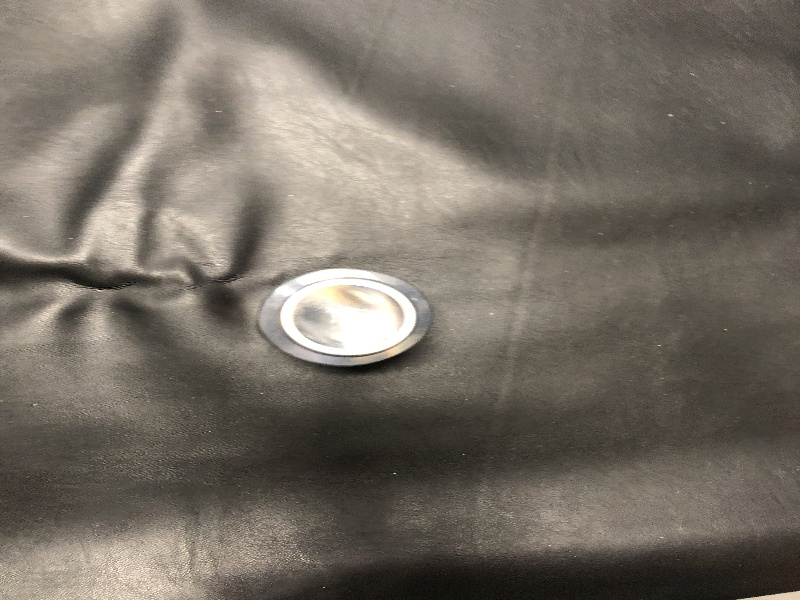metal: (248, 254, 445, 377)
